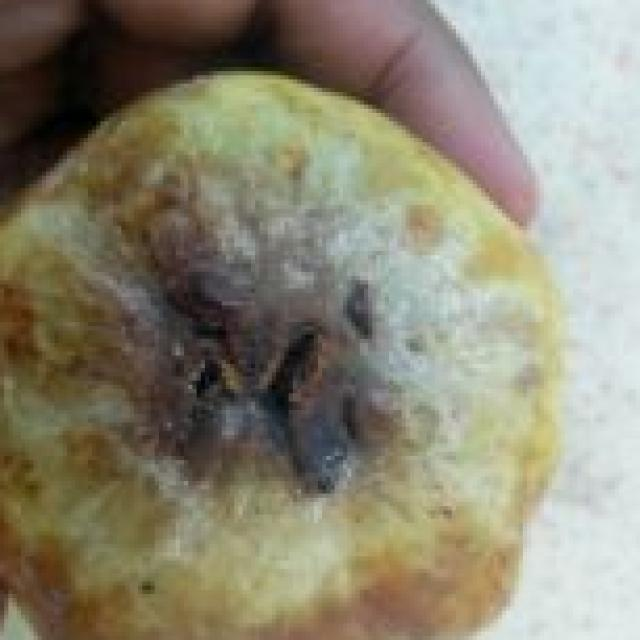Bad_Guava 0 day: (0, 73, 561, 640)
